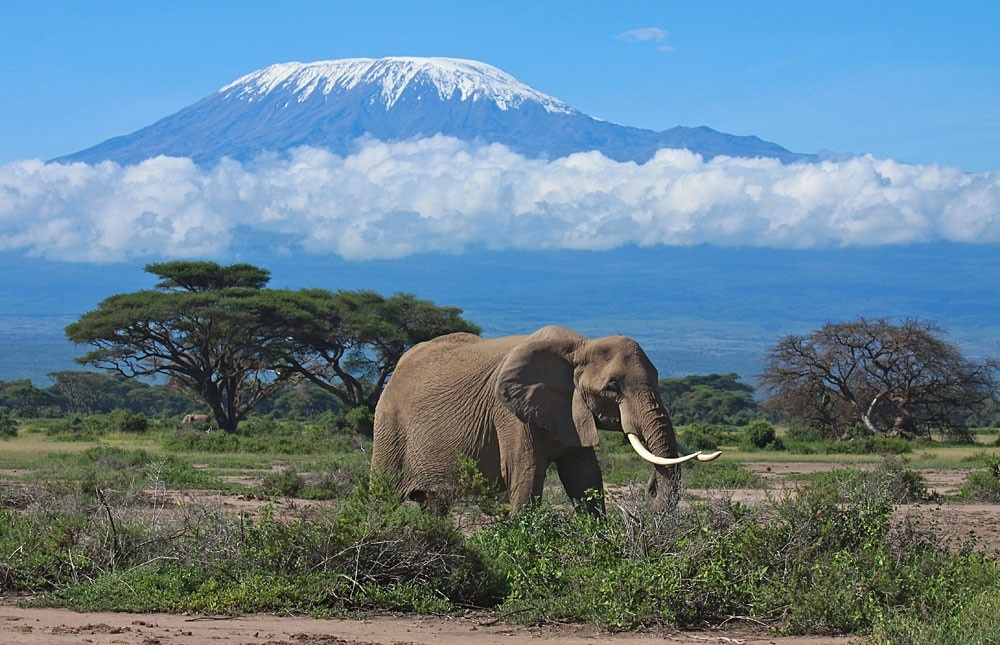elephant: (544, 424, 897, 624)
